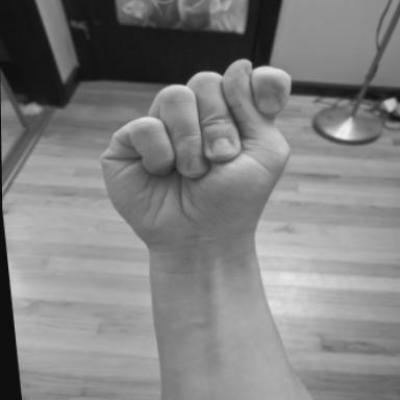hand: (86, 48, 314, 268)
